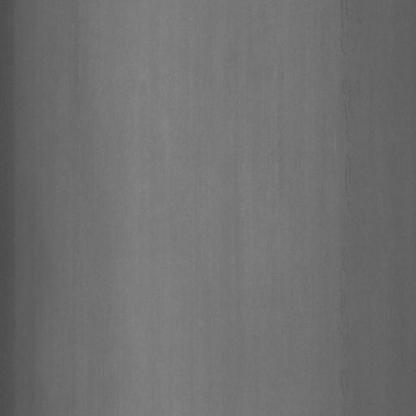silk_spot: (326, 24, 370, 388)
